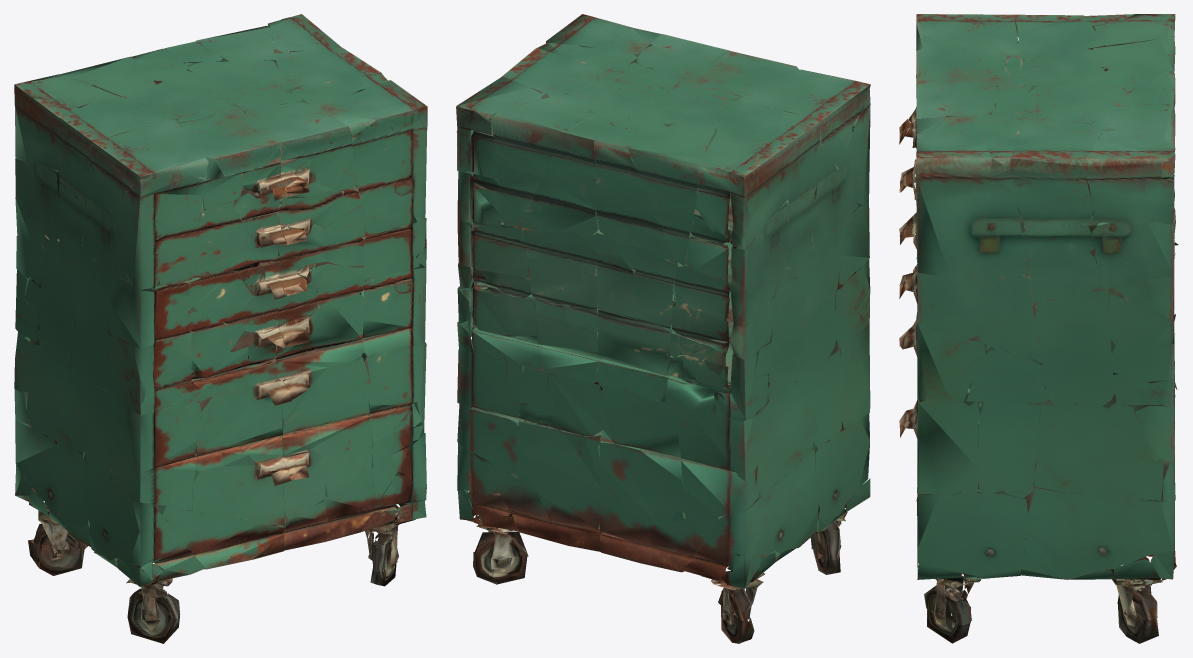
File: Overturned_battered_factory_tool_cabinet-game.glb
3 views of the same model, side by side, from view 1: azimuth 30°, elevation 25°; view 2: azimuth 150°, elevation 25°; view 3: azimuth 270°, elevation 25° (orthographic). The views are drawn at different scales.
Parts seen in each view (by area): view 1: Mesh_0; view 2: Mesh_0; view 3: Mesh_0.
Part boxes in pixels (left/top/right/bottom): Mesh_0: left=14, top=14, right=427, bottom=643; Mesh_0: left=456, top=14, right=870, bottom=643; Mesh_0: left=899, top=14, right=1178, bottom=643.
Size of the model in its own units: 1.19 by 1.9 by 0.9727.
Materials: 1 (1 with a texture image).
